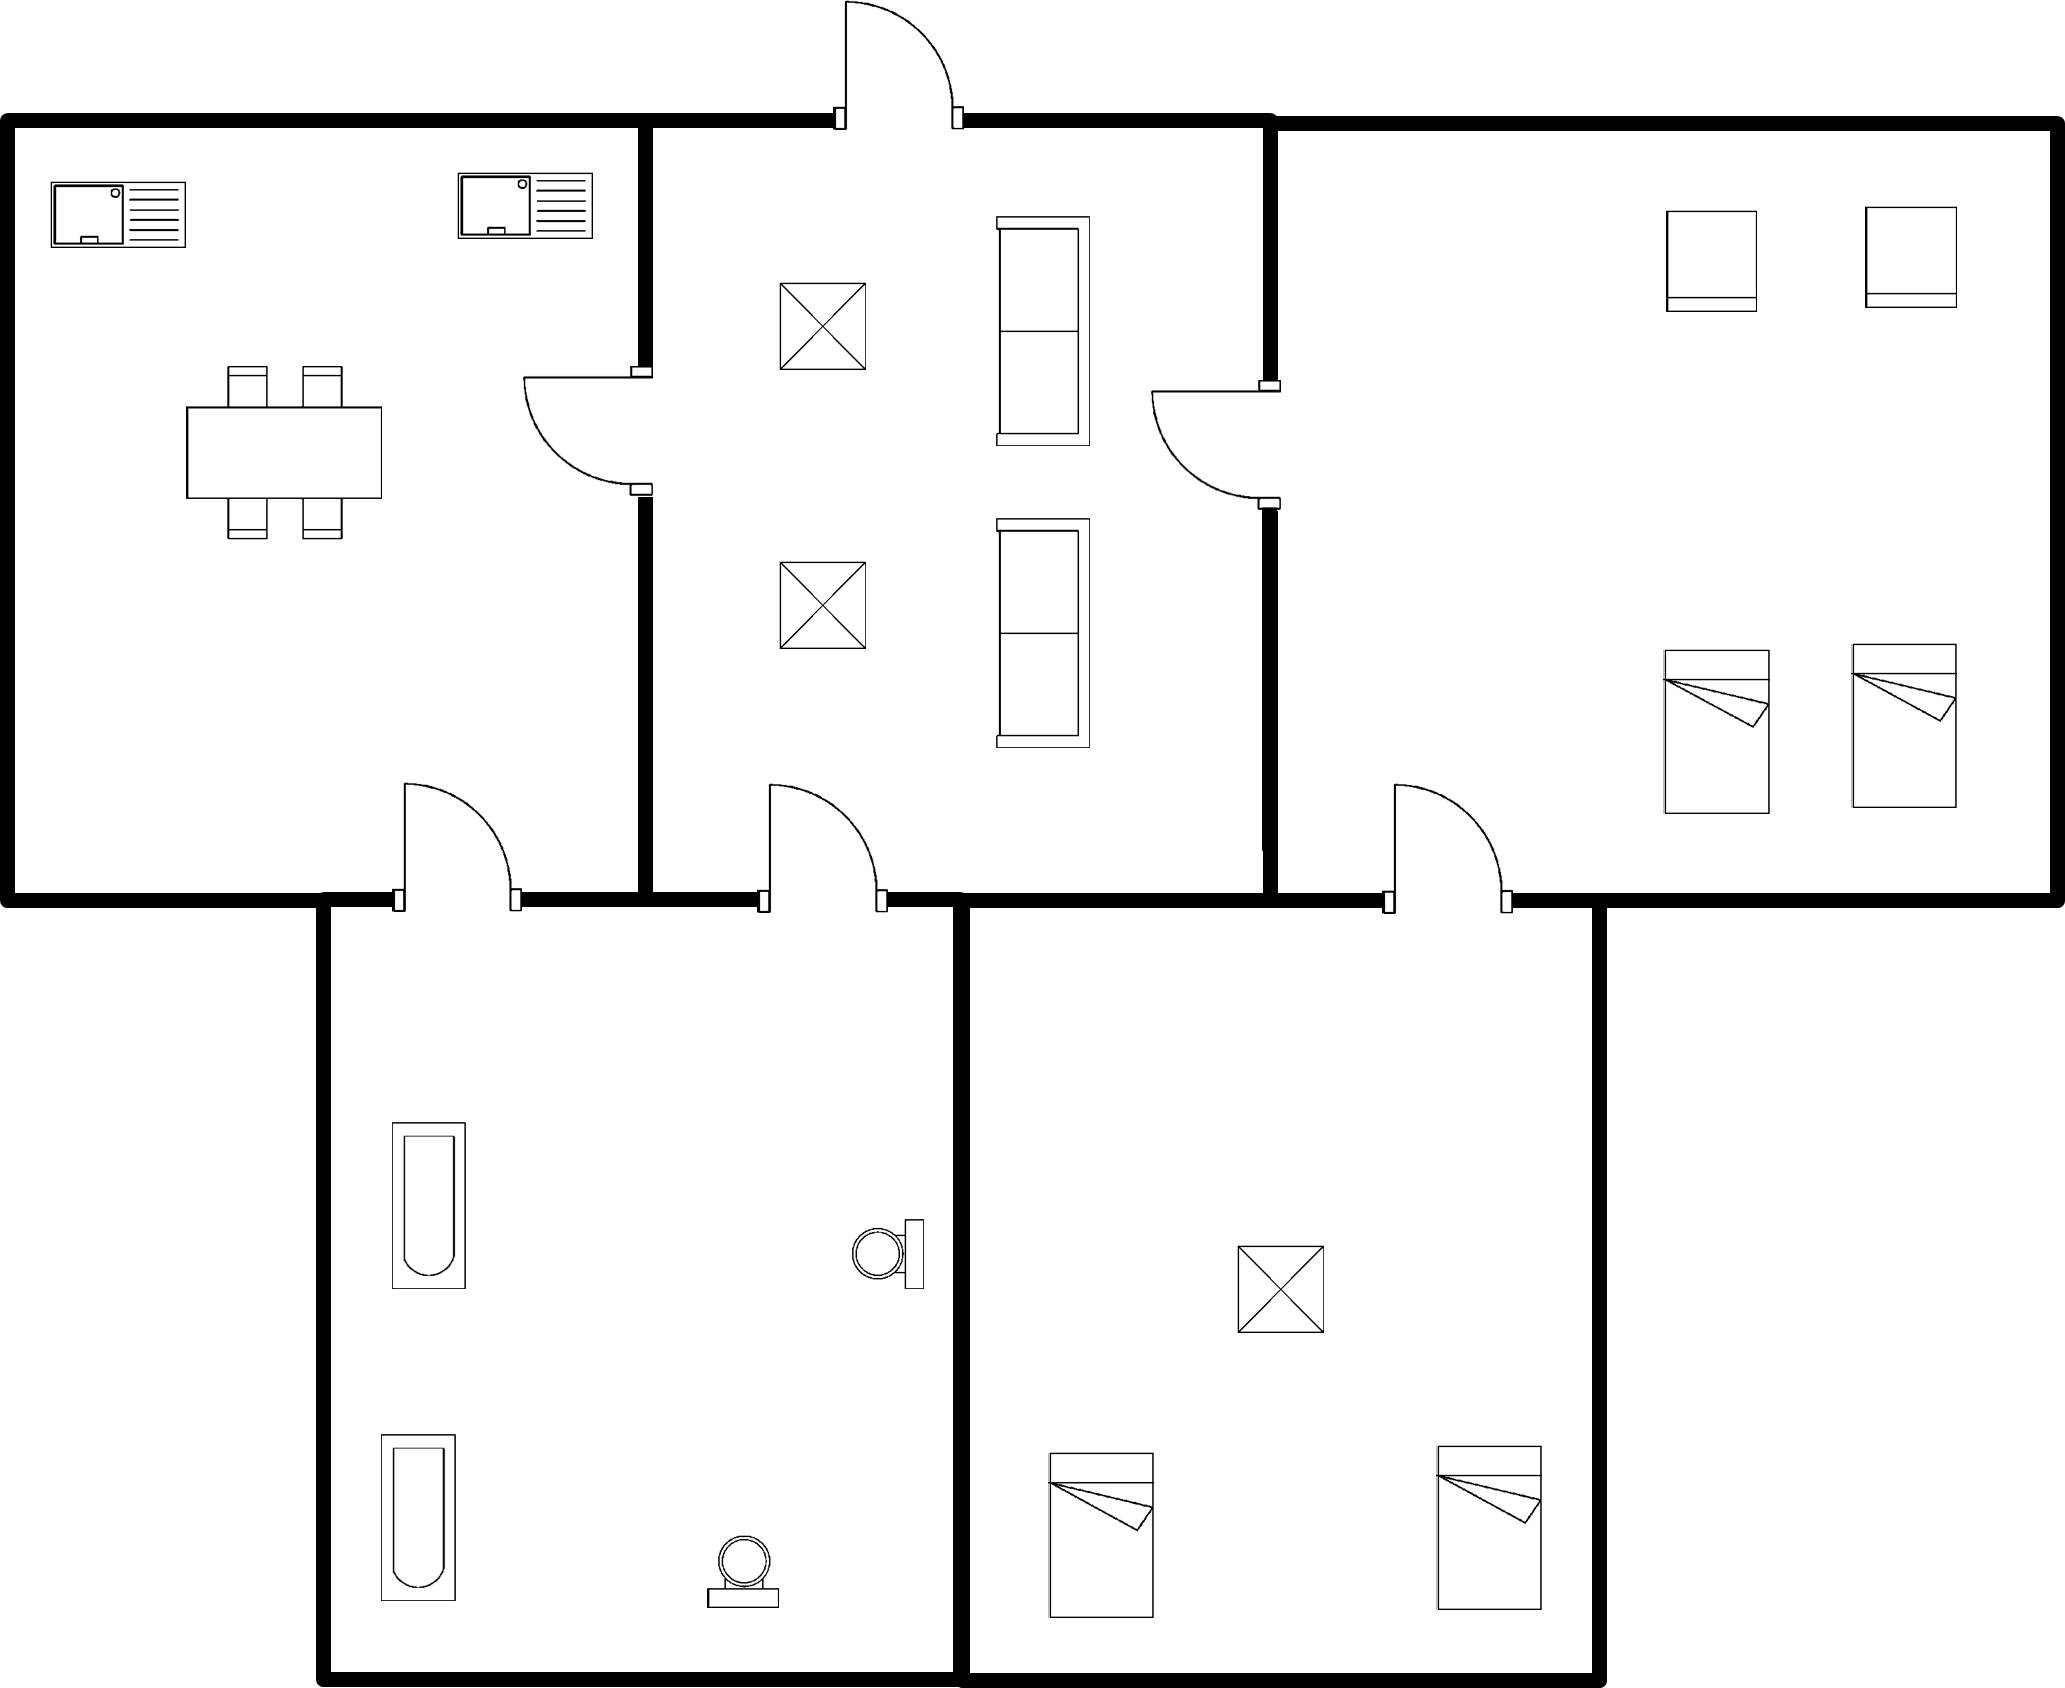bed: (1651, 632, 1784, 828), (1423, 1434, 1554, 1631), (1038, 1441, 1166, 1626), (1844, 632, 1967, 821)
coffee_table: (764, 549, 882, 664), (1226, 1229, 1336, 1349), (769, 268, 876, 385)
dining_table: (171, 350, 397, 554)
large_sink: (841, 1206, 935, 1305), (694, 1528, 792, 1616)
large_sofa: (982, 203, 1102, 462), (987, 505, 1102, 762)
sink: (443, 159, 605, 255), (36, 170, 200, 265)
small_sofa: (1849, 196, 1971, 328), (1654, 200, 1769, 326)
tub: (367, 1421, 467, 1618), (381, 1106, 474, 1305)
